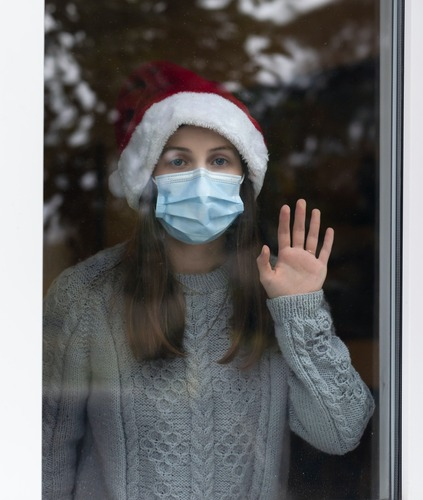with_mask: (157, 134, 242, 227)
